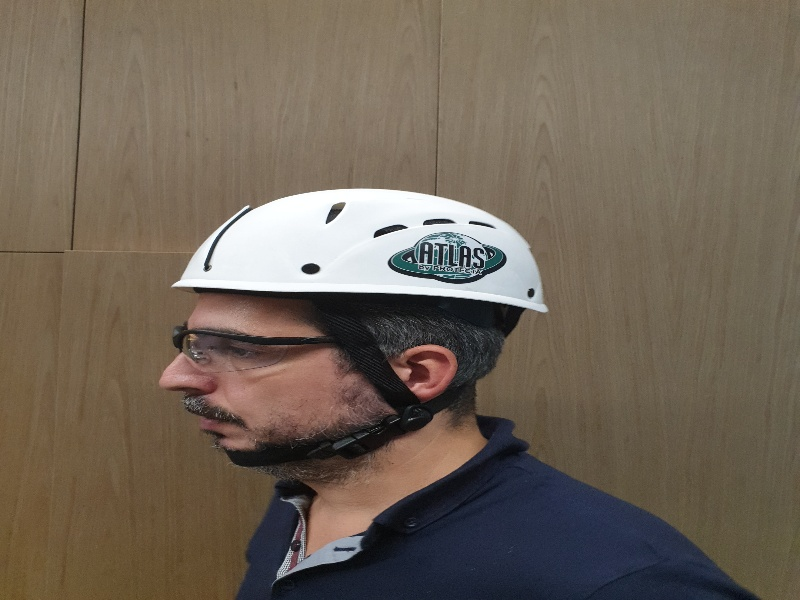Baret: (163, 188, 549, 315)
Gozluk: (167, 323, 389, 367)
